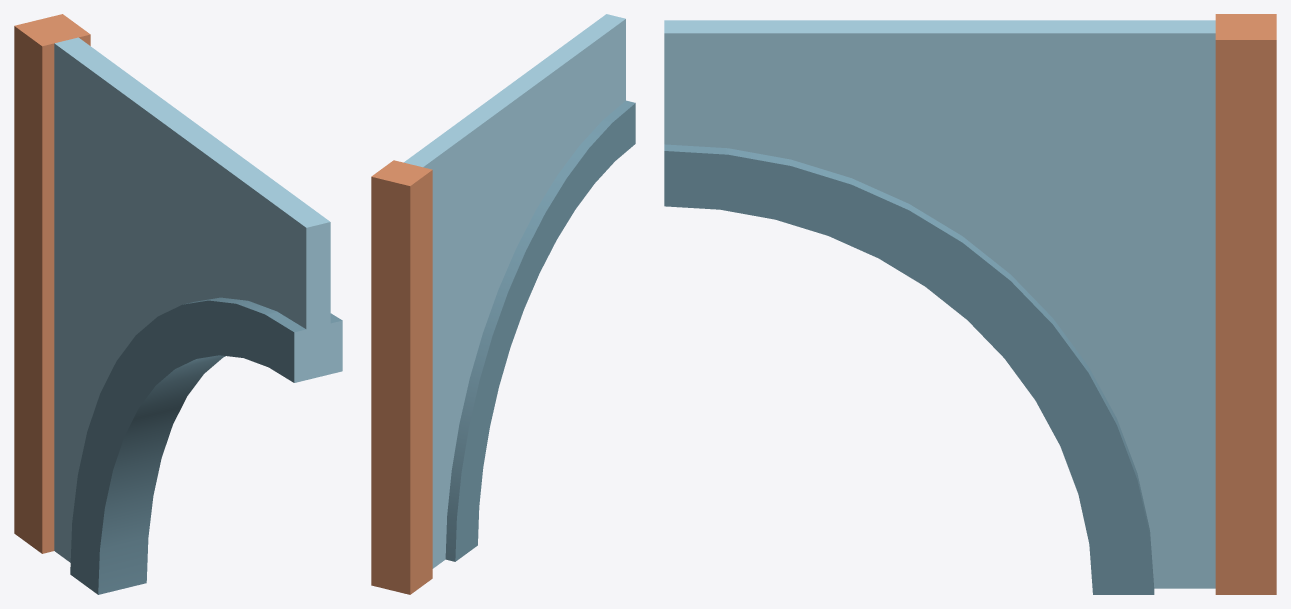
The model's file is wallArchTop.glb.
The picture shows the model from 3 angles, left to right: view 1: azimuth 30°, elevation 25°; view 2: azimuth 150°, elevation 25°; view 3: azimuth 270°, elevation 25°; orthographic projection. The views are drawn at different scales.
Visible parts, largest first — view 1: wallArchTop; view 2: wallArchTop; view 3: wallArchTop.
Part boxes in pixels (x1,y1,x2,y2): wallArchTop: (14,14,342,594); wallArchTop: (371,14,635,594); wallArchTop: (664,14,1276,594).
Size of the model in its own units: 0.1 by 1 by 1.
